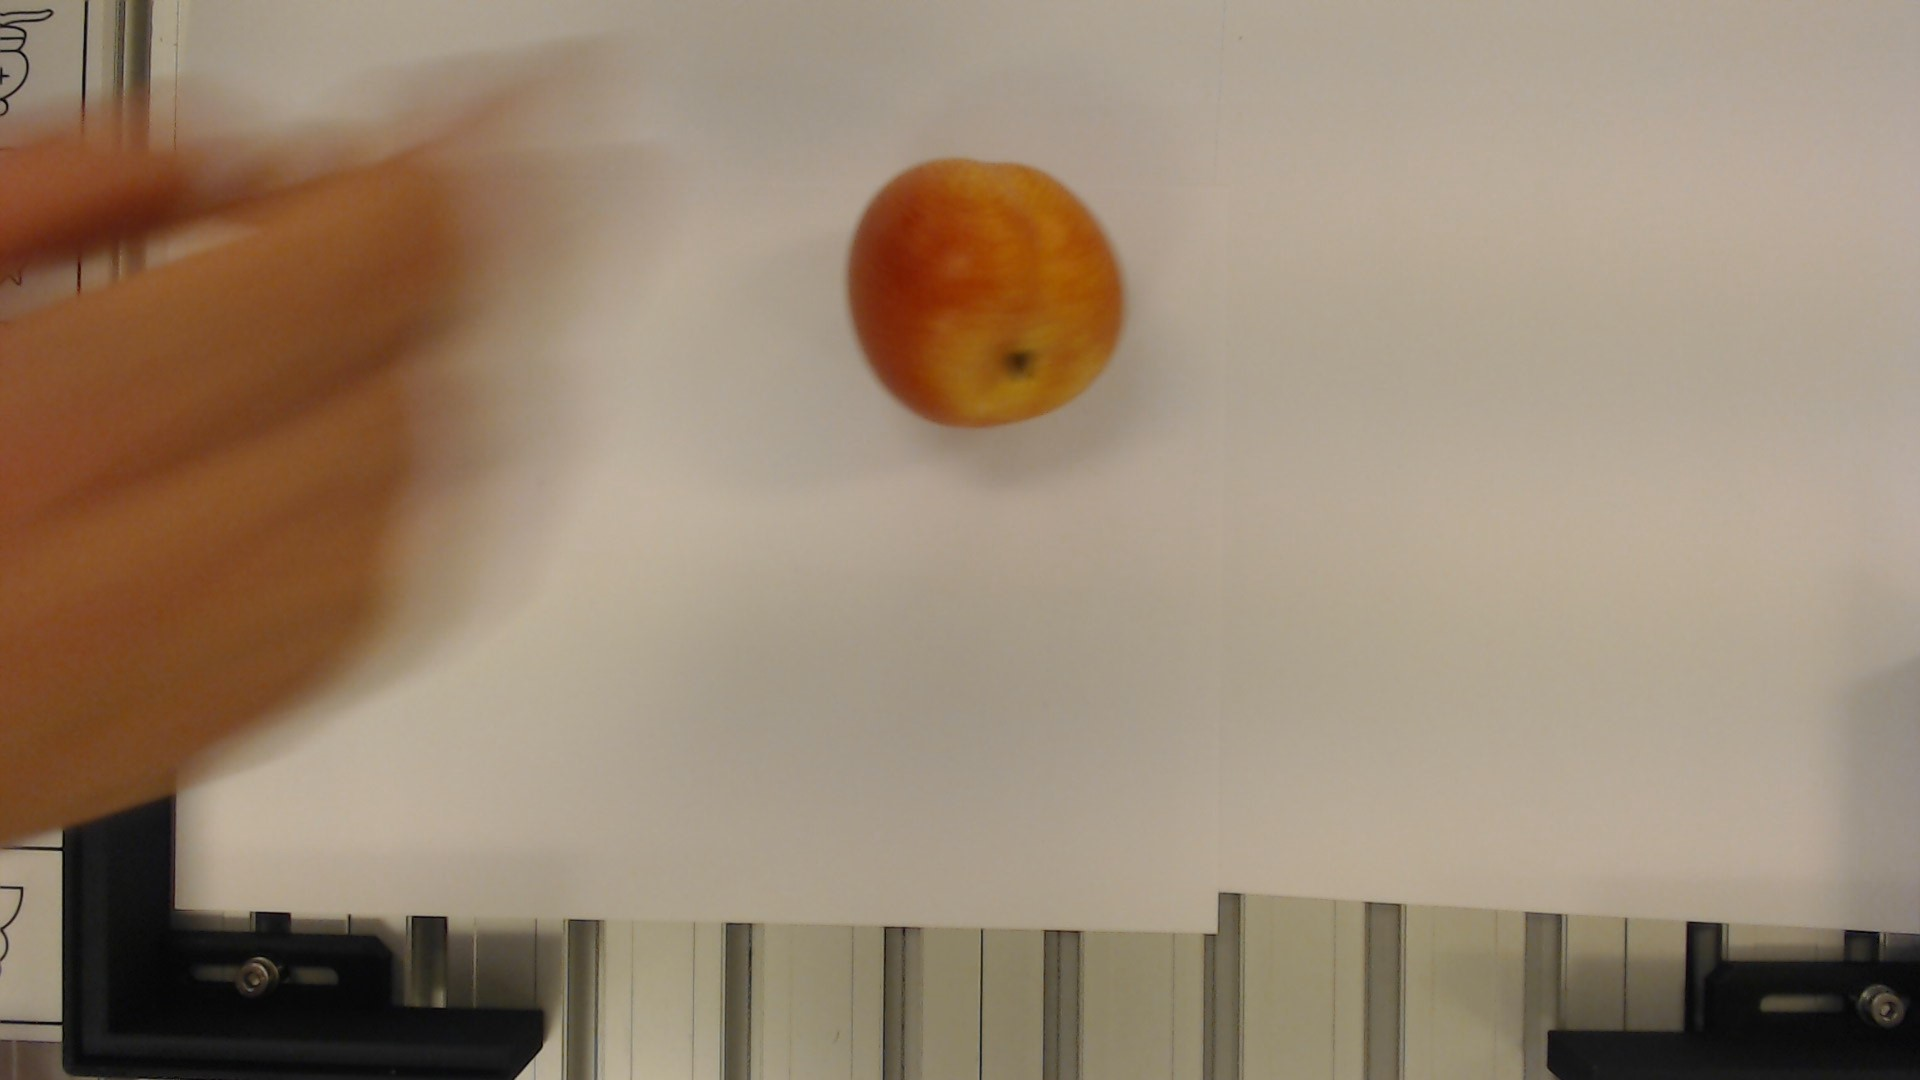Peach: (844, 164, 1126, 426)
